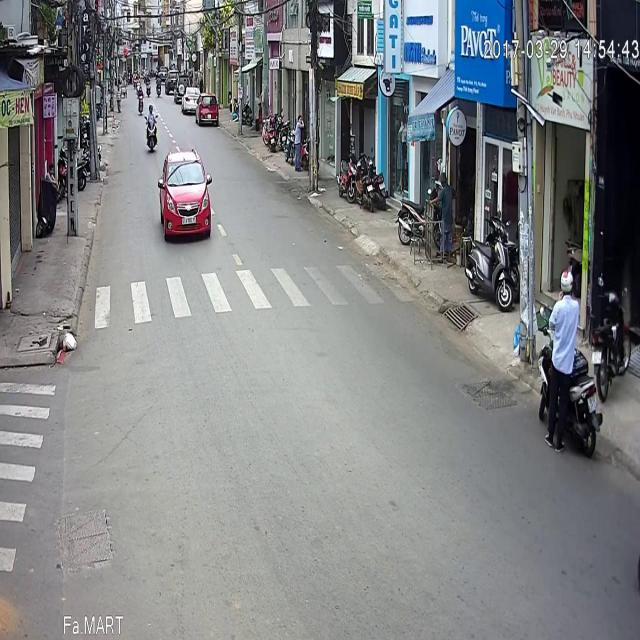car: (159, 94, 213, 184), (196, 36, 220, 68)
motorcycle: (536, 208, 600, 403), (144, 46, 157, 94)
